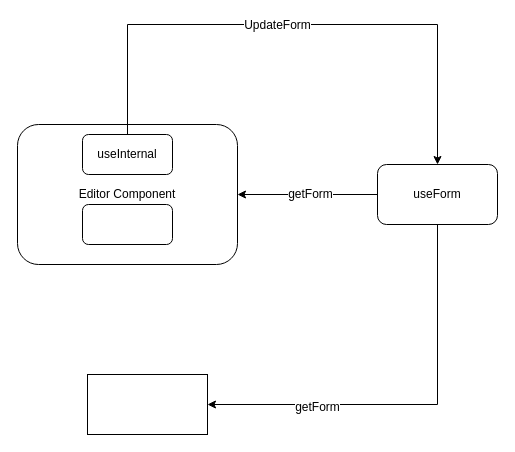
Some shapes in this 515 by 452 pixel diagram are drawn without their labels. Here are the shapes that lost their labels. From the top down, the centre of each, then its label:
At pixel 127 224: "useTimer".
At pixel 147 404: "Bottom Panel".
